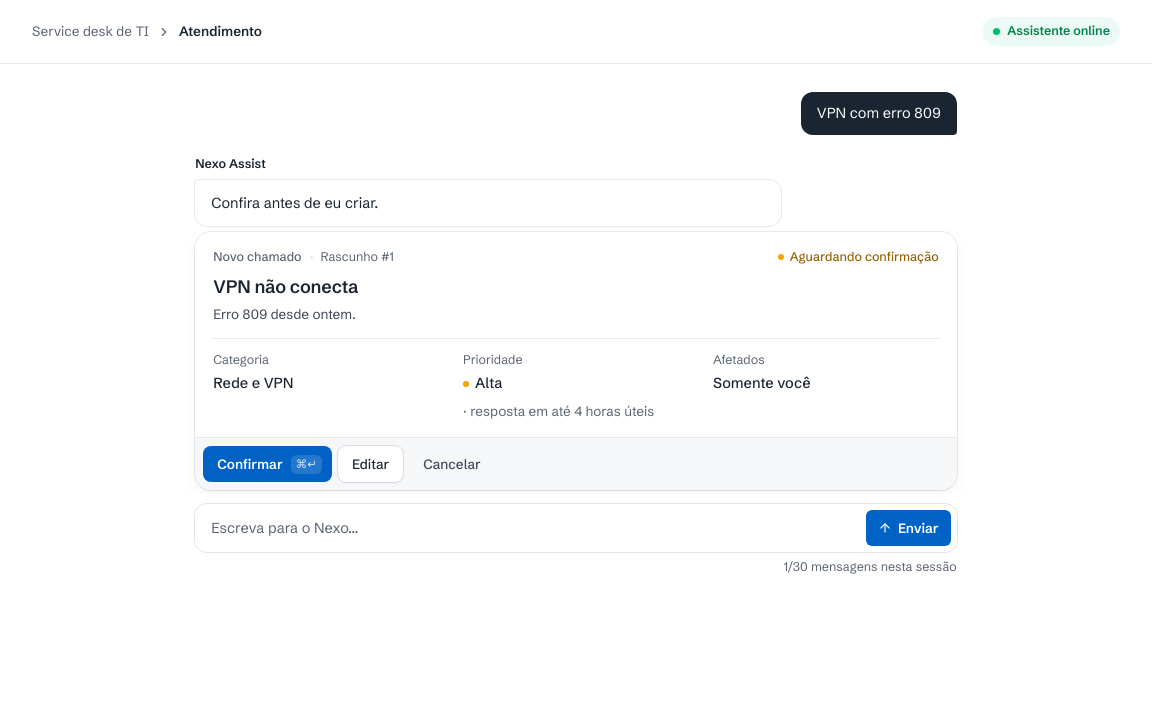
Test: ChatScreen › retoma a conversa aberta e confirma o rascunho pelo card
Click the button "Confirmar ⌘↵".
click(268, 464)  # box left=203, top=446, right=332, bottom=482
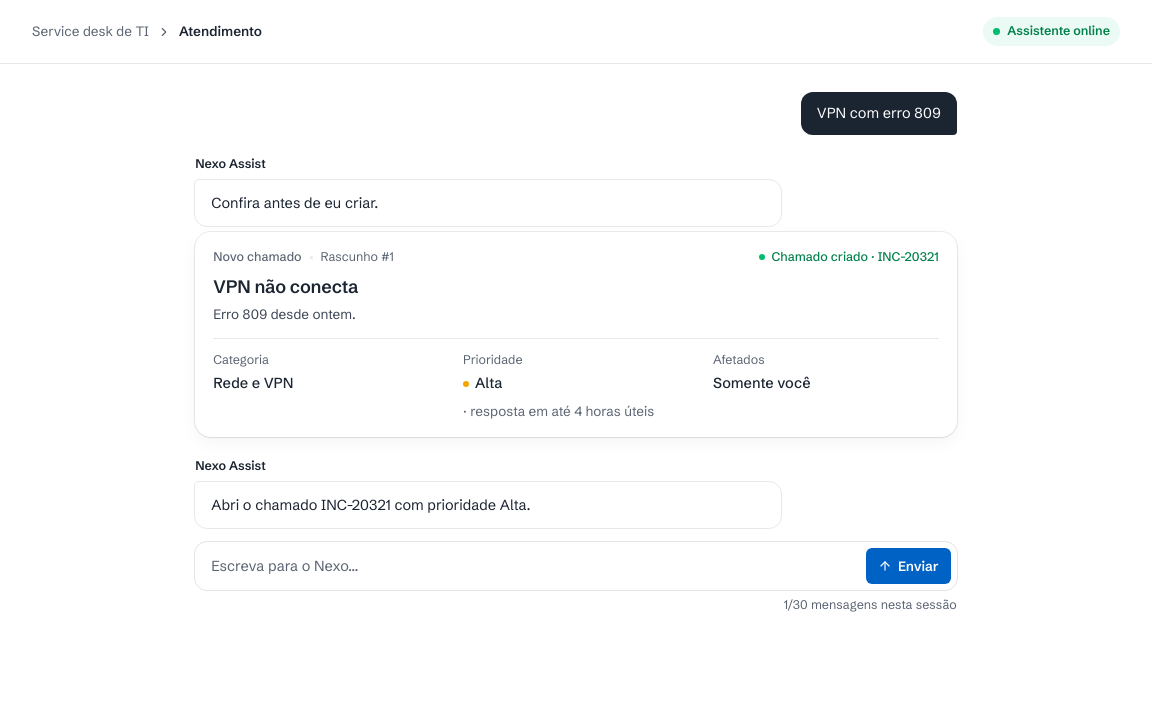
expect the text "Chamado criado · INC-20321" is shown: met, box left=759, top=248, right=939, bottom=267
expect the text "Abri o chamado INC-20321 com prioridade Alta." is shown: met, box left=211, top=496, right=531, bottom=514
